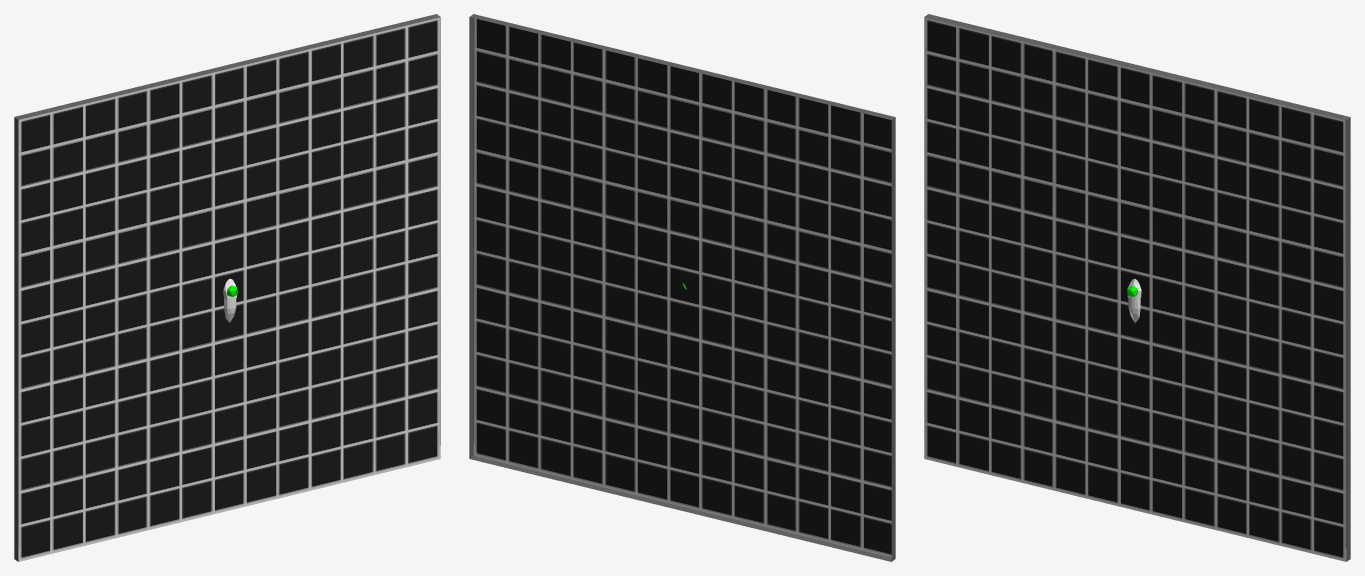
File: snake.glb
3 views of the same model, side by side, from view 1: azimuth 30°, elevation 25°; view 2: azimuth 150°, elevation 25°; view 3: azimuth 330°, elevation 25° (orthographic).
Visible parts, largest first — view 1: arena; view 2: arena; view 3: arena.
Part boxes in pixels (<box>): arena: <box>14,14,440,561</box>; arena: <box>469,14,895,561</box>; arena: <box>924,14,1350,561</box>.
Bounding box in the file's own units: 4 × 4 × 0.158.
Materials: 1 (1 with a texture image).
